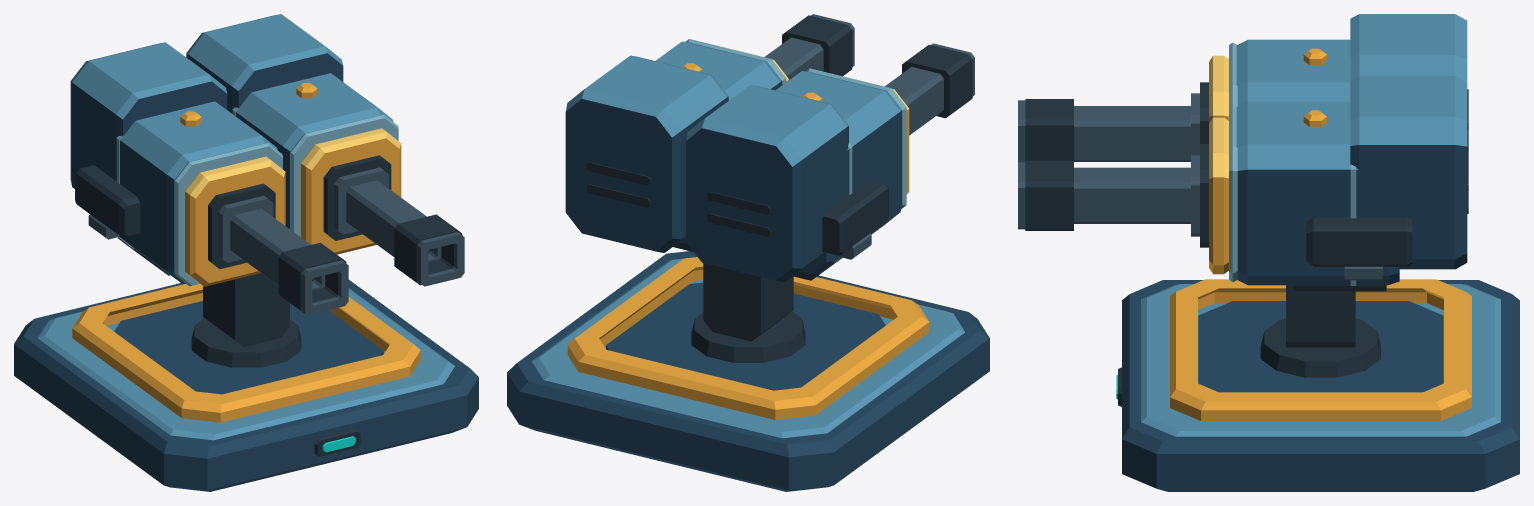
File: MG2Upgrade.obj
3 renders of one model, left to right at view 1: azimuth 30°, elevation 25°; view 2: azimuth 150°, elevation 25°; view 3: azimuth 270°, elevation 25°, orthographic. The views are drawn at different scales.
Visible parts, largest first — view 1: SquareFoundation, GoldPlatformRing, InnerDeck, UpperDeck, RearHousingLBody, FrontHousingLBody, Support, GoldMantletLBody, GoldMantletRBody, FrontHousingLTop, FrontHousingRTop, SquareBarrelR (+24 smaller); view 2: SquareFoundation, RearHousingLBody, GoldPlatformRing, RearHousingRBody, InnerDeck, UpperDeck, Support, FrontHousingLBody, RearHousingRTop, RearHousingLTop, Bearing, SideMagazineL (+15 smaller); view 3: SquareFoundation, GoldPlatformRing, InnerDeck, UpperDeck, FrontHousingRBody, RearHousingRBody, SquareBarrelR, SquareBarrelL, SideMagazineR, FrontHousingLTop, Bearing, FrontHousingRTop (+20 smaller).
Boxes of the visible parts, x1=… form: SquareFoundation: x1=14, y1=280, x2=478, y2=491; GoldPlatformRing: x1=72, y1=284, x2=420, y2=422; InnerDeck: x1=114, y1=301, x2=383, y2=394; UpperDeck: x1=38, y1=288, x2=454, y2=440; RearHousingLBody: x1=70, y1=81, x2=227, y2=188; FrontHousingLBody: x1=102, y1=128, x2=184, y2=283; Support: x1=203, y1=273, x2=289, y2=346; GoldMantletLBody: x1=185, y1=166, x2=285, y2=286; GoldMantletRBody: x1=300, y1=138, x2=401, y2=254; FrontHousingLTop: x1=136, y1=101, x2=261, y2=154; FrontHousingRTop: x1=251, y1=73, x2=376, y2=126; SquareBarrelR: x1=346, y1=180, x2=441, y2=262; SquareFoundation: x1=507, y1=251, x2=989, y2=491; RearHousingLBody: x1=686, y1=126, x2=848, y2=282; GoldPlatformRing: x1=567, y1=257, x2=929, y2=419; RearHousingRBody: x1=565, y1=96, x2=728, y2=252; InnerDeck: x1=606, y1=282, x2=885, y2=390; UpperDeck: x1=532, y1=258, x2=964, y2=438; Support: x1=703, y1=263, x2=793, y2=341; FrontHousingLBody: x1=799, y1=110, x2=901, y2=274; RearHousingRTop: x1=585, y1=55, x2=709, y2=108; RearHousingLTop: x1=705, y1=85, x2=829, y2=137; Bearing: x1=691, y1=311, x2=805, y2=362; SideMagazineL: x1=822, y1=180, x2=888, y2=255; SquareFoundation: x1=1122, y1=280, x2=1519, y2=491; GoldPlatformRing: x1=1170, y1=279, x2=1471, y2=421; InnerDeck: x1=1198, y1=301, x2=1443, y2=392; UpperDeck: x1=1141, y1=284, x2=1500, y2=436; FrontHousingRBody: x1=1237, y1=169, x2=1399, y2=285; RearHousingRBody: x1=1350, y1=145, x2=1467, y2=269; SquareBarrelR: x1=1074, y1=167, x2=1190, y2=223; SquareBarrelL: x1=1074, y1=106, x2=1190, y2=161; SideMagazineR: x1=1306, y1=217, x2=1412, y2=266; FrontHousingLTop: x1=1247, y1=39, x2=1350, y2=82; Bearing: x1=1260, y1=318, x2=1380, y2=377; FrontHousingRTop: x1=1247, y1=101, x2=1350, y2=144.
Size of the model in its own units: 2.18 by 2.1 by 2.74.
